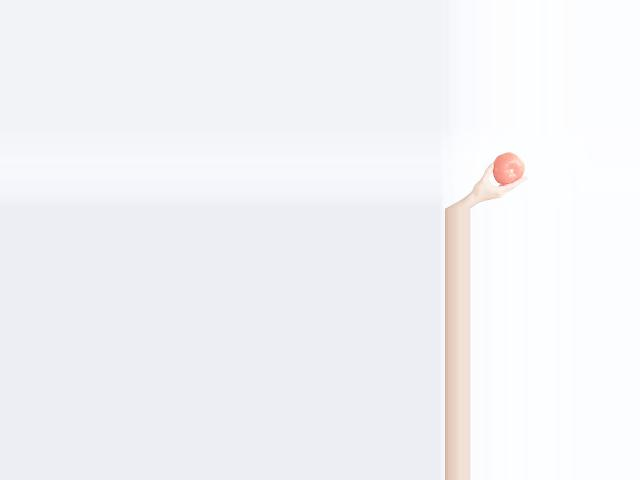tomato: (493, 152, 525, 184)
